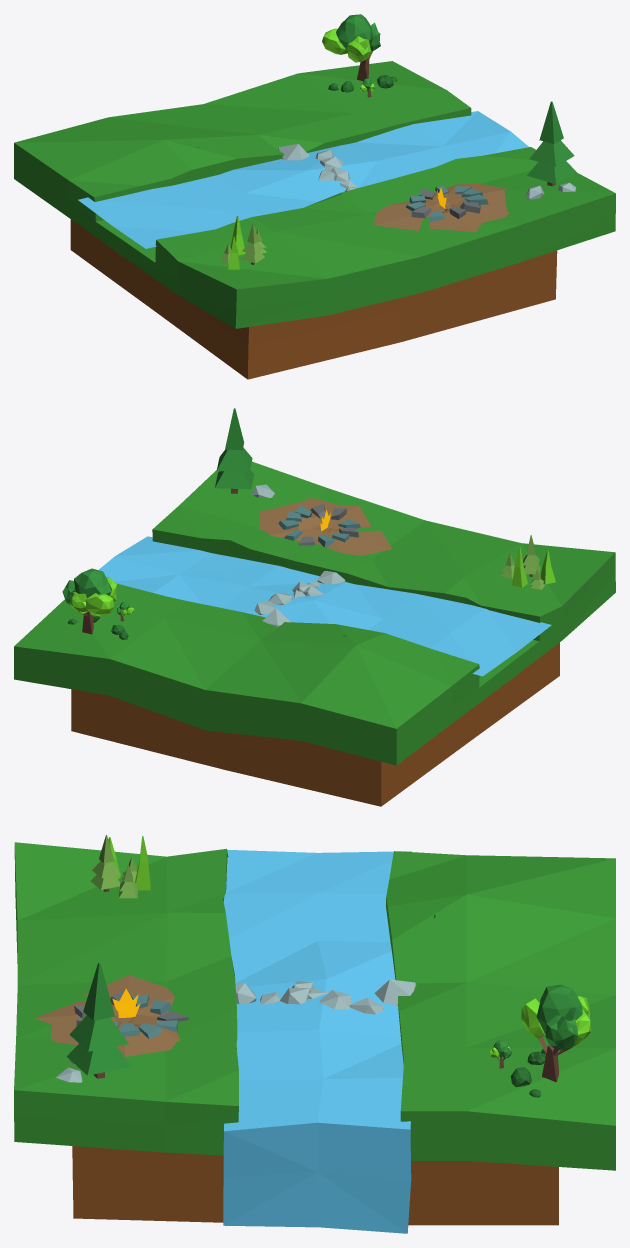
File: outdoor.glb
3 views of the same model, one above another, from view 1: azimuth 30°, elevation 25°; view 2: azimuth 150°, elevation 25°; view 3: azimuth 270°, elevation 25° (orthographic). The views are drawn at different scales.
Parts seen in each view (by area): view 1: Cube, Plane, Circle, Icosphere.006, Cube.010, Plane.006, Cube.003; view 2: Cube, Plane, Circle, Icosphere.006, Cube.010, Plane.006; view 3: Cube, Plane, Icosphere.006, Circle, Cube.010, Plane.006, Cube.003, Icosphere.018, Plane.001.
Boxes of the visible parts, left/top/right/bottom form: Cube: left=14, top=61, right=615, bottom=379; Plane: left=78, top=111, right=528, bottom=248; Circle: left=373, top=183, right=509, bottom=232; Icosphere.006: left=322, top=14, right=380, bottom=81; Cube.010: left=527, top=101, right=576, bottom=186; Plane.006: left=406, top=186, right=488, bottom=222; Cube.003: left=241, top=223, right=264, bottom=264; Cube: left=14, top=461, right=615, bottom=806; Plane: left=98, top=536, right=551, bottom=676; Circle: left=259, top=498, right=392, bottom=555; Icosphere.006: left=62, top=568, right=117, bottom=634; Cube.010: left=215, top=408, right=254, bottom=493; Plane.006: left=278, top=503, right=360, bottom=547; Cube: left=14, top=842, right=615, bottom=1225; Plane: left=223, top=850, right=411, bottom=1233; Icosphere.006: left=521, top=984, right=591, bottom=1082; Circle: left=35, top=975, right=180, bottom=1056; Cube.010: left=66, top=962, right=131, bottom=1078; Plane.006: left=74, top=991, right=188, bottom=1039; Cube.003: left=91, top=835, right=120, bottom=891; Icosphere.018: left=374, top=979, right=416, bottom=1005; Plane.001: left=135, top=836, right=150, bottom=890.
Size of the model in its own units: 14.67 by 6.86 by 13.95.
